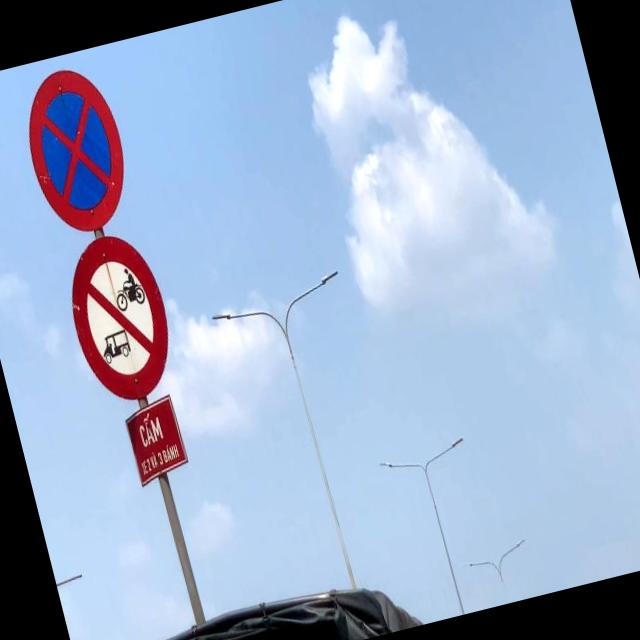P-104: (56, 226, 183, 408)
P-130: (12, 58, 139, 240)
